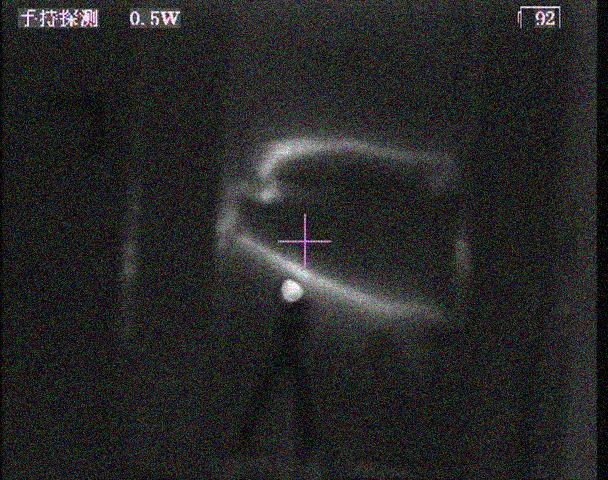my: (278, 276, 304, 304)
